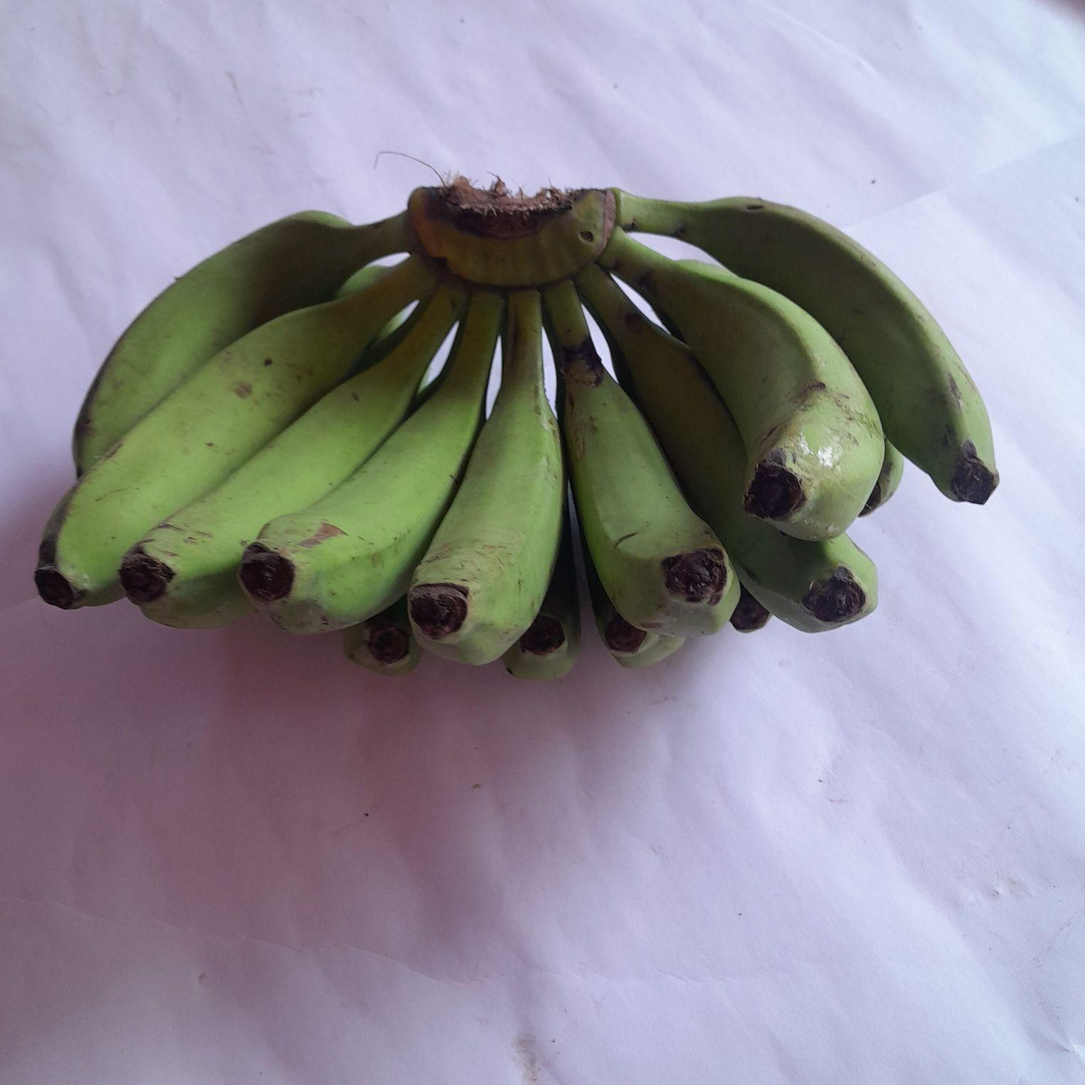Banana Unripe: (36, 256, 434, 608), (615, 191, 998, 503), (119, 286, 462, 627), (581, 269, 877, 632), (239, 290, 502, 634), (602, 229, 884, 540), (74, 212, 407, 474), (545, 282, 740, 637), (407, 288, 564, 664)
